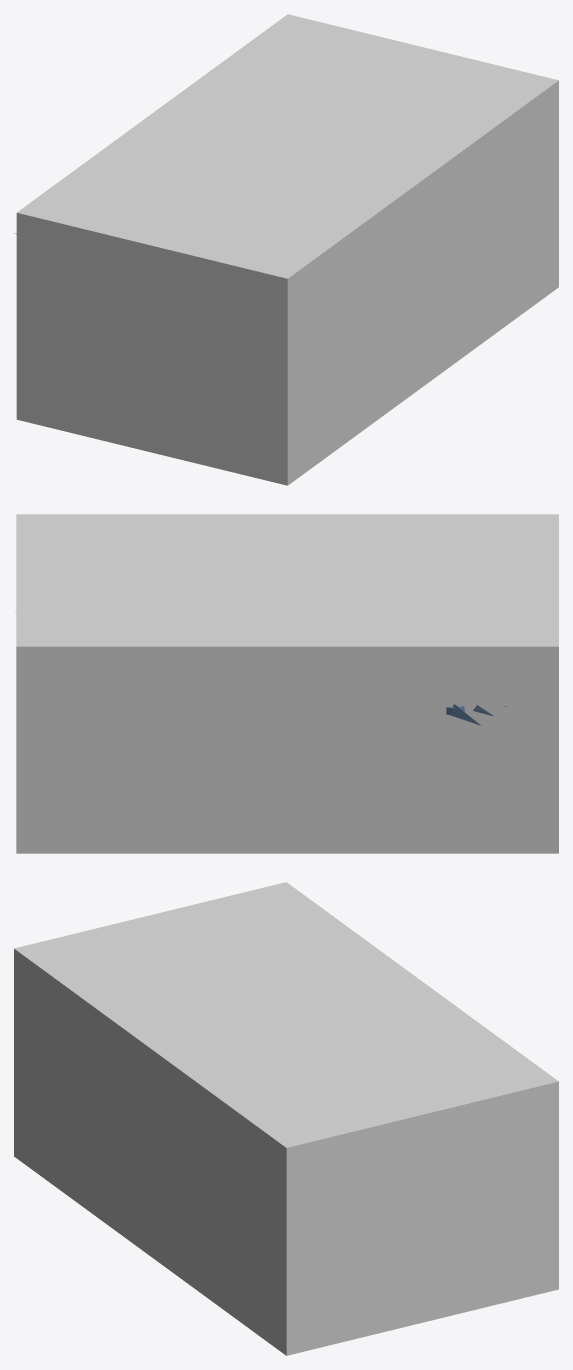
The model's file is tundra_ice_eagle.fbx.
3 views of the same model, one above another, from view 1: azimuth 30°, elevation 25°; view 2: azimuth 150°, elevation 25°; view 3: azimuth 270°, elevation 25° (orthographic).
Visible parts, largest first — view 1: Root__0.00_2.25_-0.01__10.69_4.50_6.17; view 2: Root__0.00_2.25_-0.01__10.69_4.50_6.17; view 3: Root__0.00_2.25_-0.01__10.69_4.50_6.17.
Boxes of the visible parts, x1,y1,x2,y2 form: Root__0.00_2.25_-0.01__10.69_4.50_6.17: (16,14,558,485); Root__0.00_2.25_-0.01__10.69_4.50_6.17: (16,514,558,853); Root__0.00_2.25_-0.01__10.69_4.50_6.17: (14,882,558,1355).
Bounding box in the file's own units: 346 × 126 × 299.
Materials: 1 (1 with a texture image).
